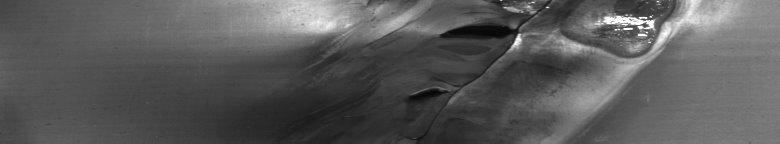ke: (308, 4, 688, 120)
